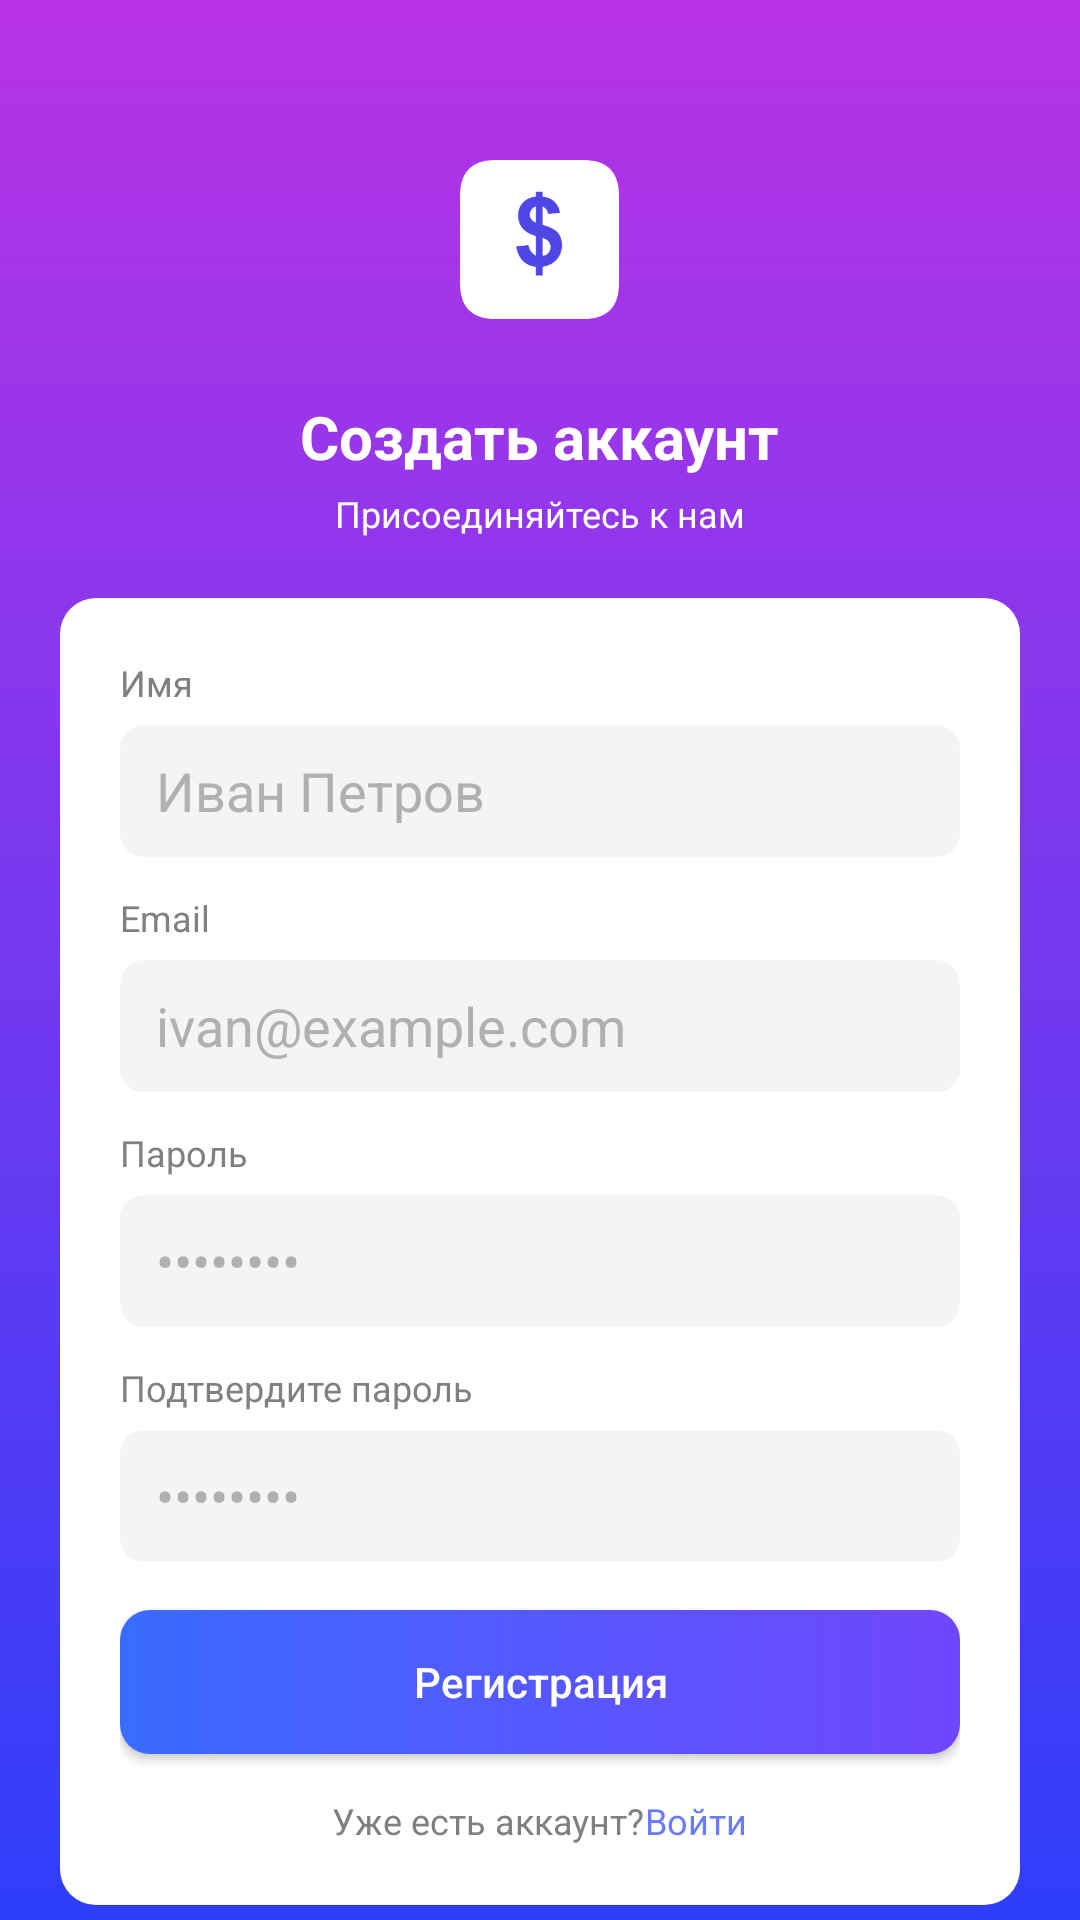

Icon click points for this 1080x1920 phone screenshot, format (x=x, y=y):
currency: (x=539, y=239)
